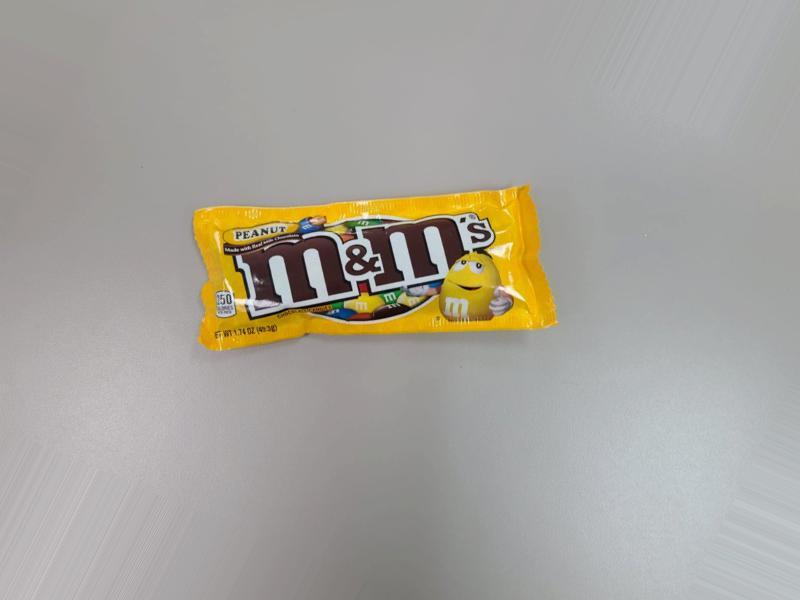m&m: (200, 187, 539, 352)
